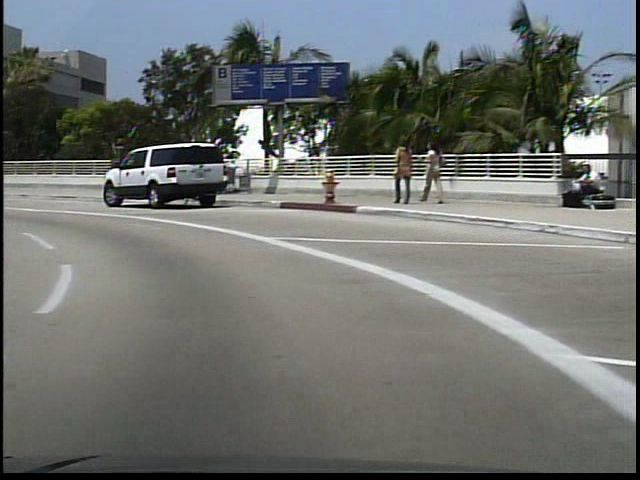person: (414, 139, 440, 207), (560, 162, 597, 208), (389, 135, 411, 212)
